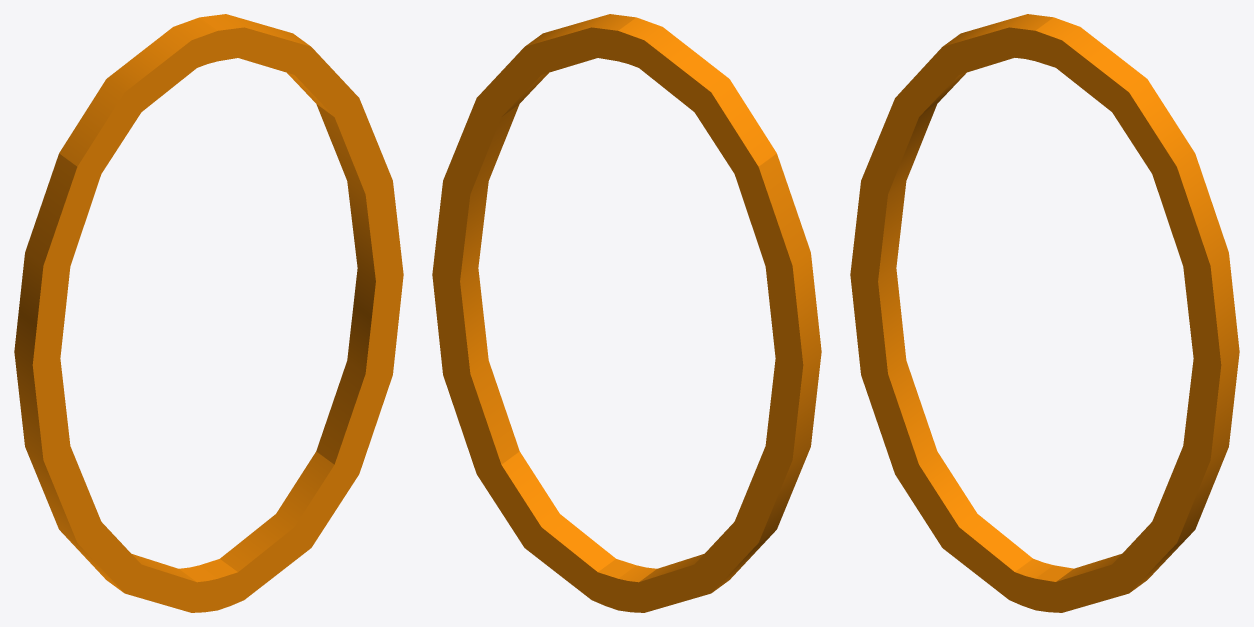
The picture shows the model from 3 angles, left to right: view 1: azimuth 30°, elevation 25°; view 2: azimuth 150°, elevation 25°; view 3: azimuth 330°, elevation 25°; orthographic projection.
Visible parts, largest first — view 1: 0; view 2: 0; view 3: 0.
Part boxes in pixels (left/top/right/bottom): 0: left=14, top=14, right=403, bottom=612; 0: left=432, top=14, right=821, bottom=612; 0: left=850, top=14, right=1239, bottom=612.
Size of the model in its own units: 58.31 by 87.06 by 5.
